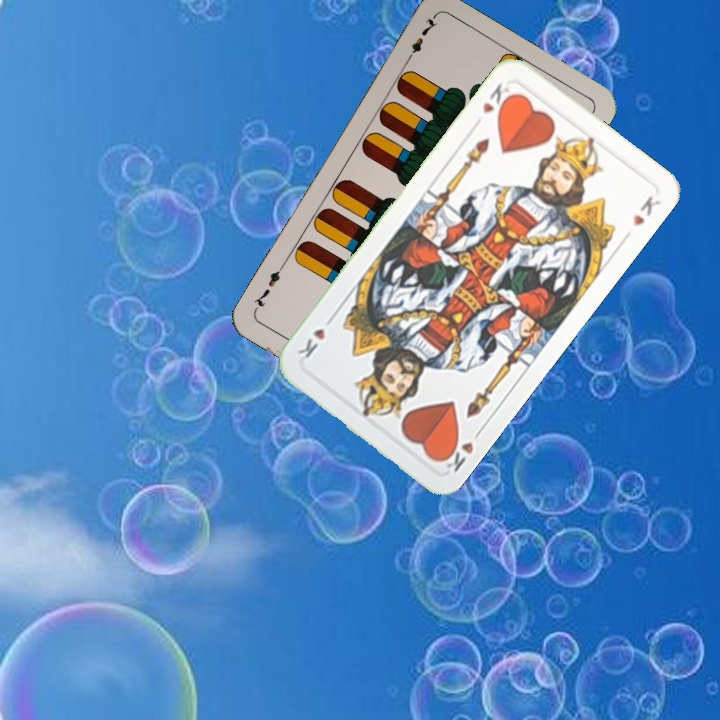E7: (401, 13, 441, 66)
HK: (436, 424, 486, 475), (478, 79, 517, 119)
